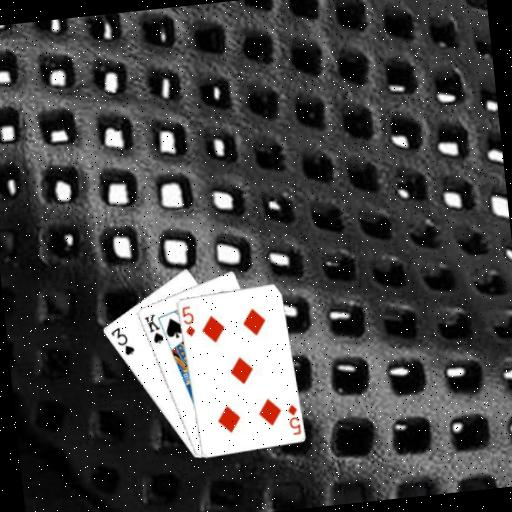3S: (107, 323, 137, 359)
5D: (283, 401, 302, 437), (179, 303, 198, 338)
KS: (141, 310, 166, 346)
